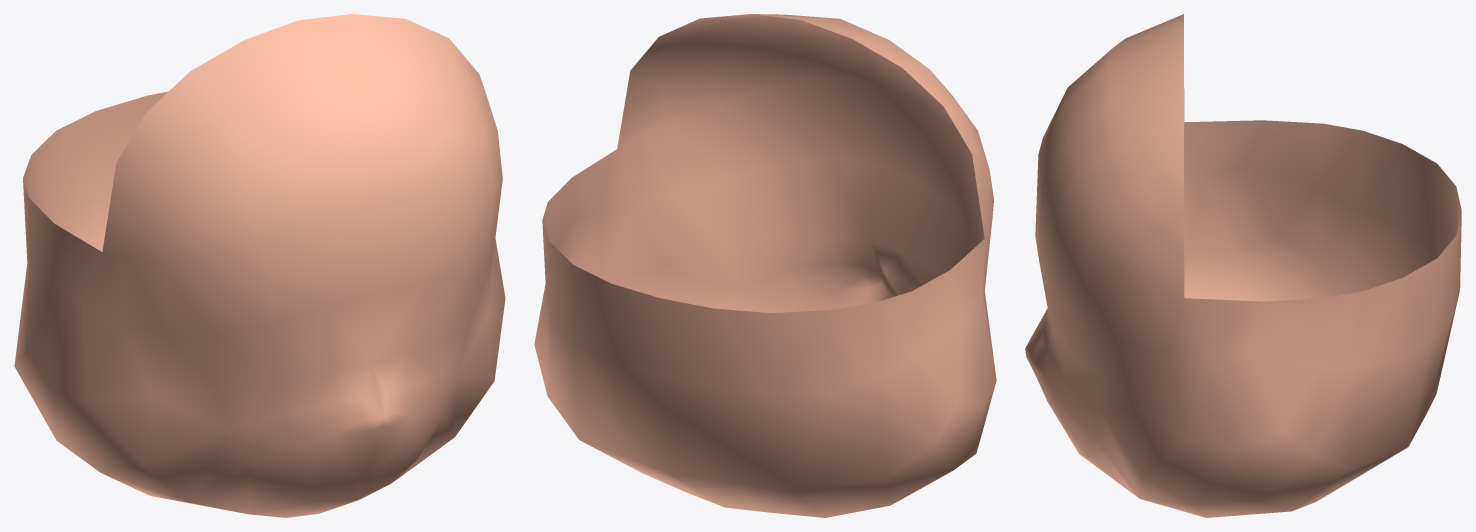
3 renders of one model, left to right at view 1: azimuth 30°, elevation 25°; view 2: azimuth 150°, elevation 25°; view 3: azimuth 270°, elevation 25°, orthographic. The views are drawn at different scales.
Visible parts, largest first — view 1: AF_M_Face_04; view 2: AF_M_Face_04; view 3: AF_M_Face_04.
Part boxes in pixels (bbox=[...]): AF_M_Face_04: bbox=[14, 14, 505, 517]; AF_M_Face_04: bbox=[534, 14, 996, 517]; AF_M_Face_04: bbox=[1025, 14, 1461, 517].
Size of the model in its own units: 709 by 738 by 661.
1 material, 1 textured.
